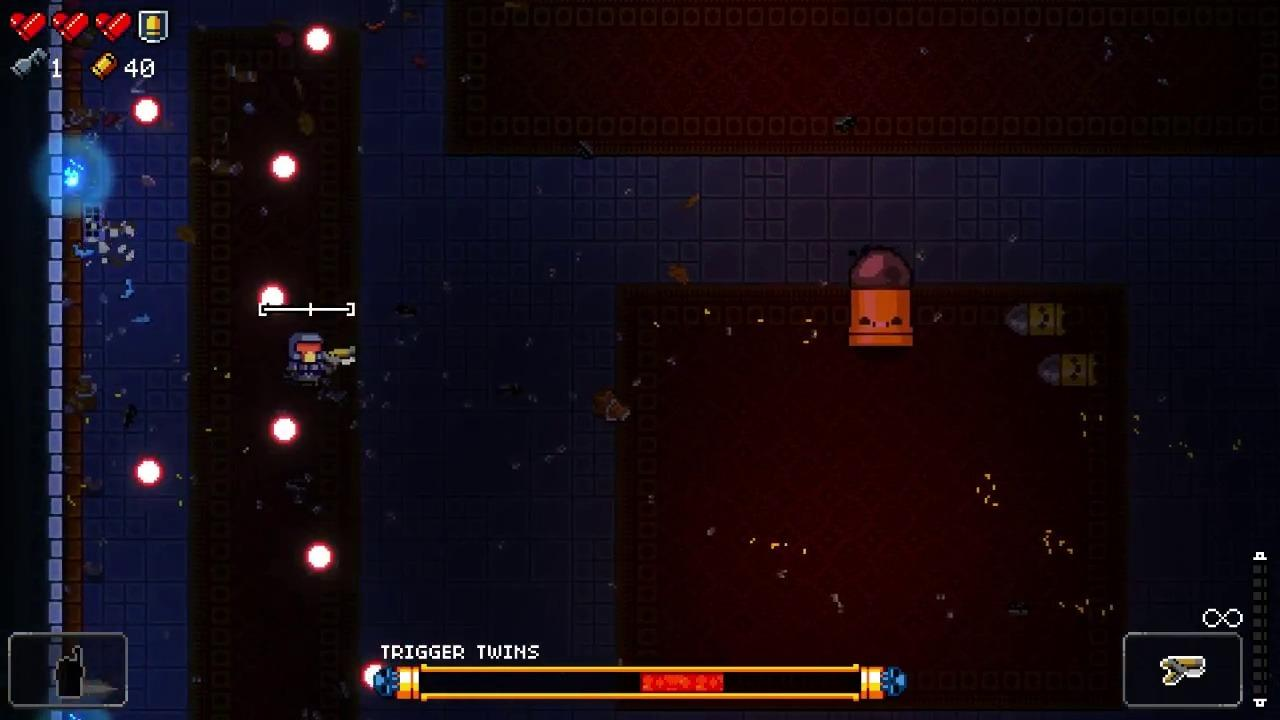boss_smiley: (849, 250, 913, 350)
bullet: (133, 457, 164, 490), (269, 414, 301, 445), (269, 153, 301, 182), (133, 96, 162, 126), (307, 540, 332, 574), (304, 27, 332, 54), (259, 282, 285, 311)
dead_bullet_kin: (1038, 353, 1096, 389), (1007, 302, 1064, 334)
player: (288, 333, 325, 388)
